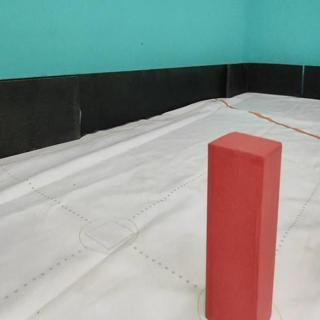redbox: (207, 130, 281, 320)
